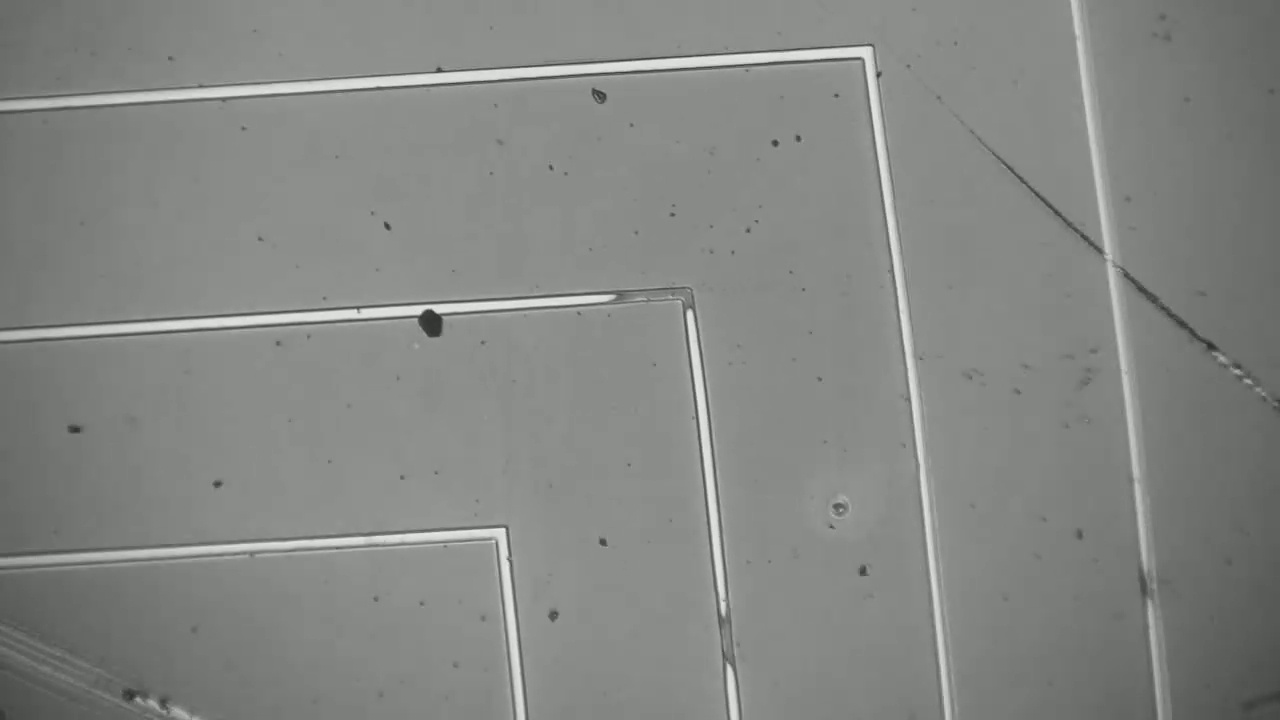edge_bite: (488, 550, 517, 569)
gray_line: (586, 282, 707, 311), (708, 595, 743, 681), (664, 271, 709, 336), (1131, 553, 1169, 612)
scratch: (877, 41, 1279, 475), (0, 570, 208, 719)
stains_enbedded: (407, 294, 452, 344)
